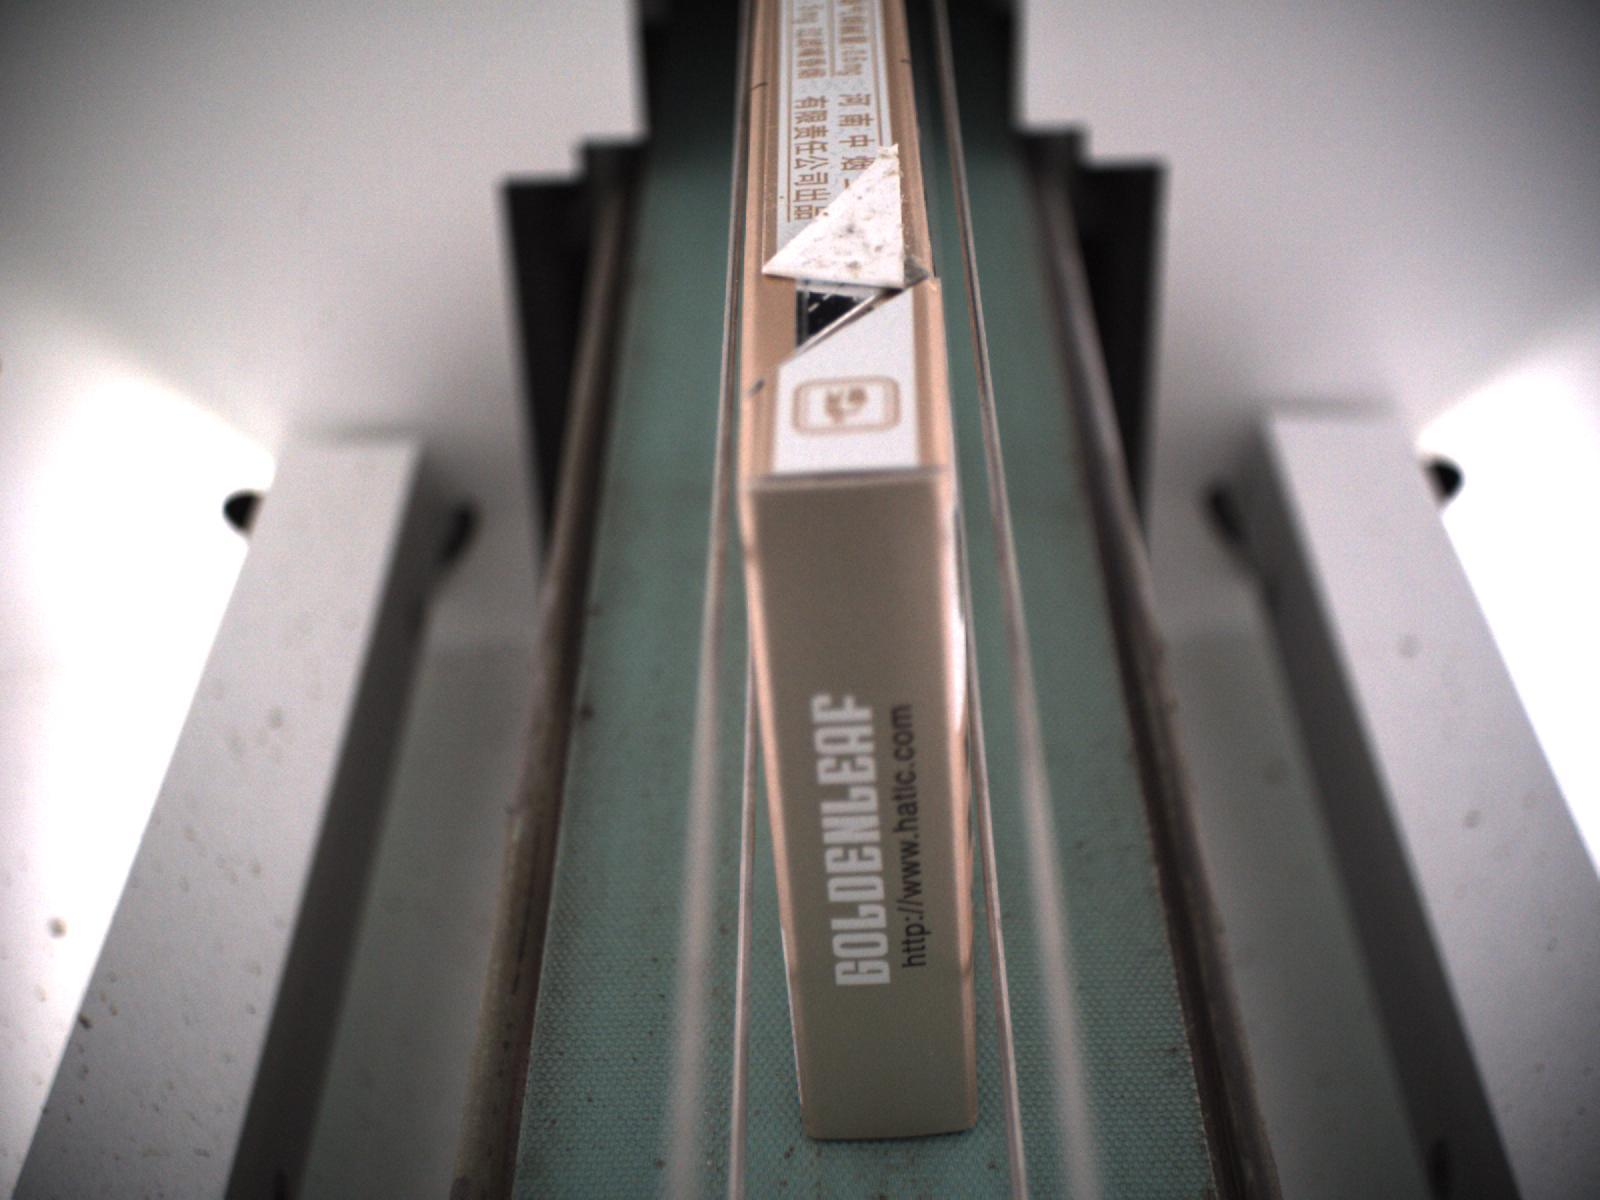outerFold_upper_2: (746, 136, 942, 395)
